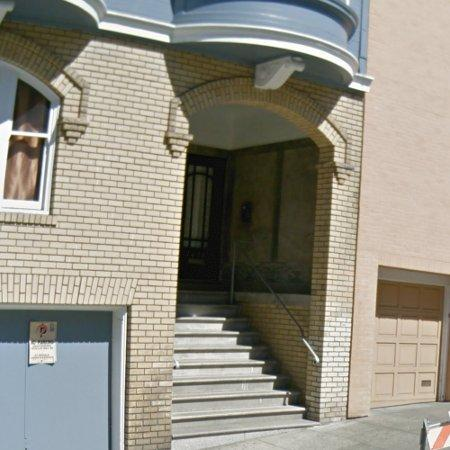stairs: (173, 305, 316, 450)
